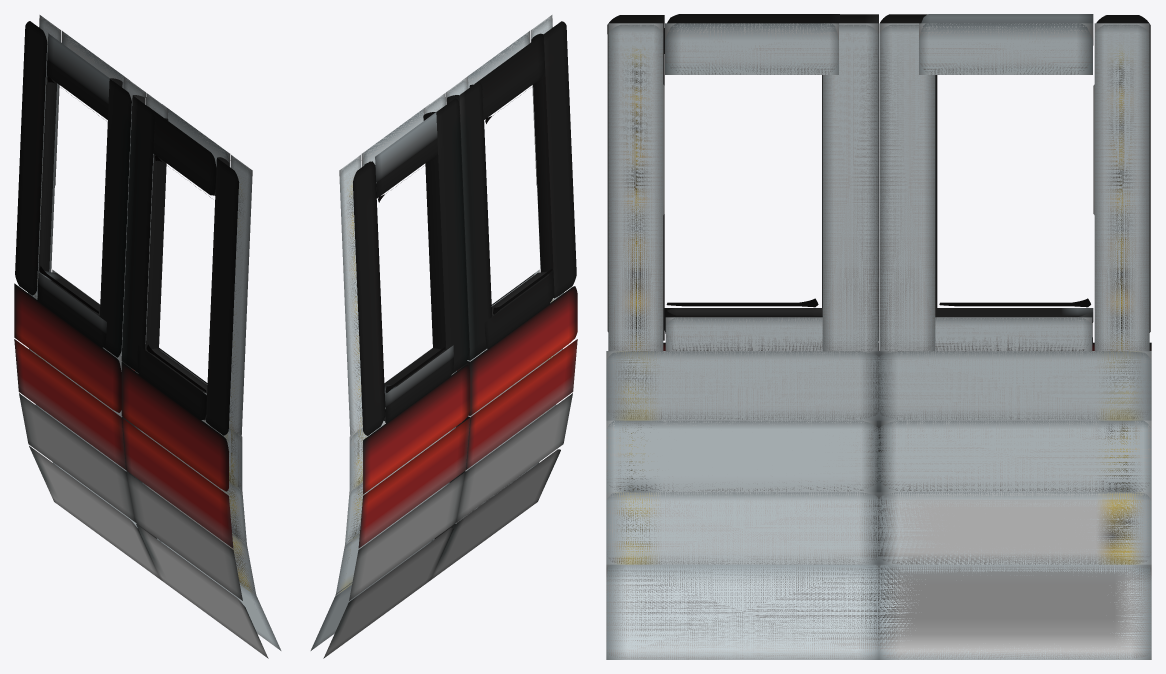
Rendered from trm01_doors.obj.
3 renders of one model, left to right at view 1: azimuth 30°, elevation 25°; view 2: azimuth 150°, elevation 25°; view 3: azimuth 270°, elevation 25°, orthographic. The views are drawn at different scales.
Visible parts, largest first — view 1: door_left, door_right, door_left_in, door_right_in; view 2: door_left, door_right, door_right_in, door_left_in; view 3: door_left_in, door_right_in, door_left, door_right.
Part boxes in pixels (left/top/right/bottom): door_left: left=121, top=95, right=268, bottom=658; door_right: left=14, top=21, right=160, bottom=579; door_left_in: left=135, top=93, right=281, bottom=650; door_right_in: left=28, top=15, right=159, bottom=540; door_left: left=431, top=21, right=577, bottom=579; door_right: left=323, top=98, right=470, bottom=658; door_right_in: left=310, top=93, right=456, bottom=650; door_left_in: left=432, top=15, right=563, bottom=540; door_left_in: left=606, top=23, right=878, bottom=659; door_right_in: left=879, top=23, right=1151, bottom=659; door_left: left=607, top=14, right=878, bottom=350; door_right: left=880, top=14, right=1151, bottom=350.
Bounding box in the file's own units: 0.2485 × 2.22 × 1.75.
Materials: 2 (2 with a texture image).
